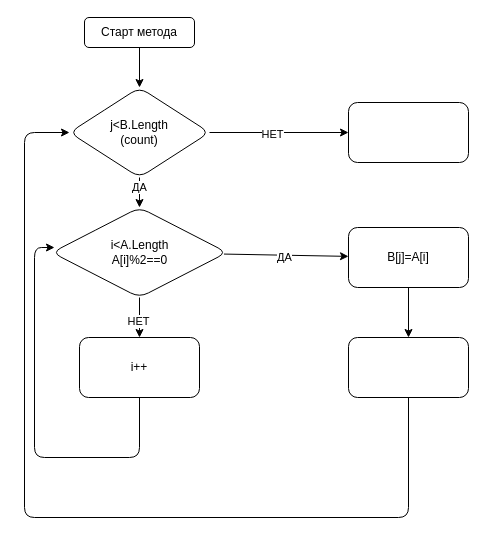
The diagram is 486 pixels wide and 543 high, and some of its shapes have lost their labels. Each missing label, with the centre of its shape:
j++: (408,367)
Конец: (408,132)
